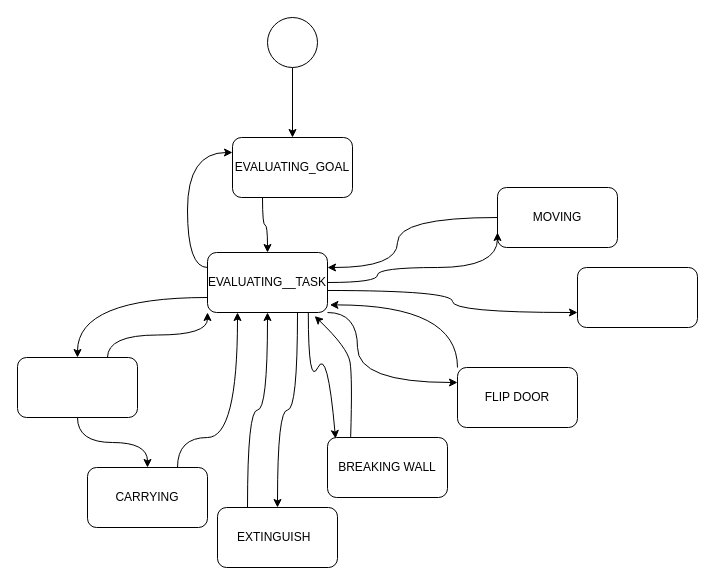
Some shapes in this 715 by 585 pixel diagram are drawn without their labels. The box of each missing label's shape, as (x1, y1, x2, y2) in pixels:
IDLE: (266, 16, 318, 68)
K.O.: (576, 266, 698, 328)
REVEALIN: (16, 356, 138, 418)
